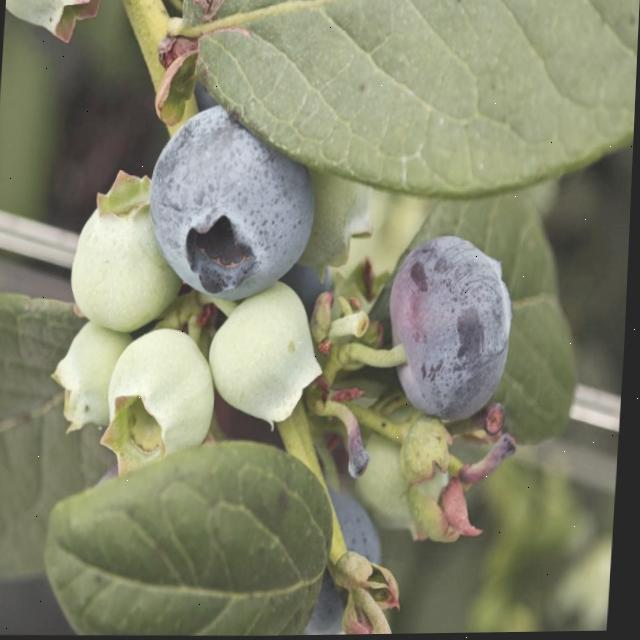RipeBlueBerry: (148, 107, 320, 302)
Semi-RipeBlueBerry: (387, 235, 524, 420)
UnripeBlueBerry: (73, 172, 180, 328), (210, 283, 328, 422), (109, 323, 219, 472)
